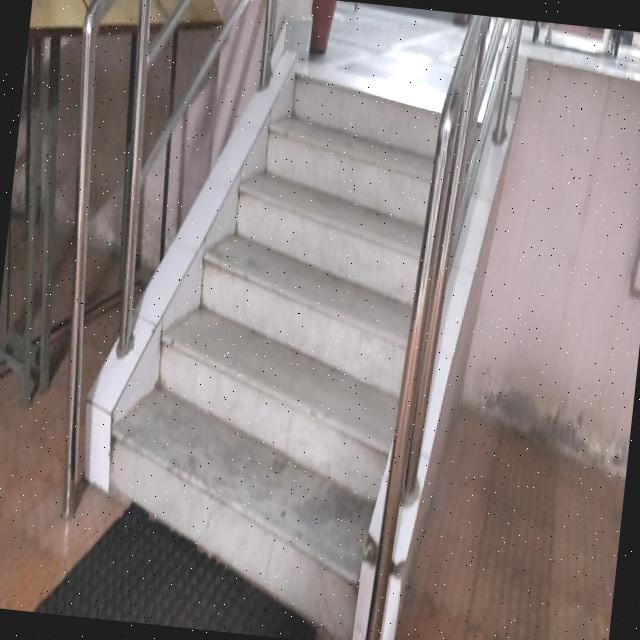stairs: (87, 39, 456, 640)
